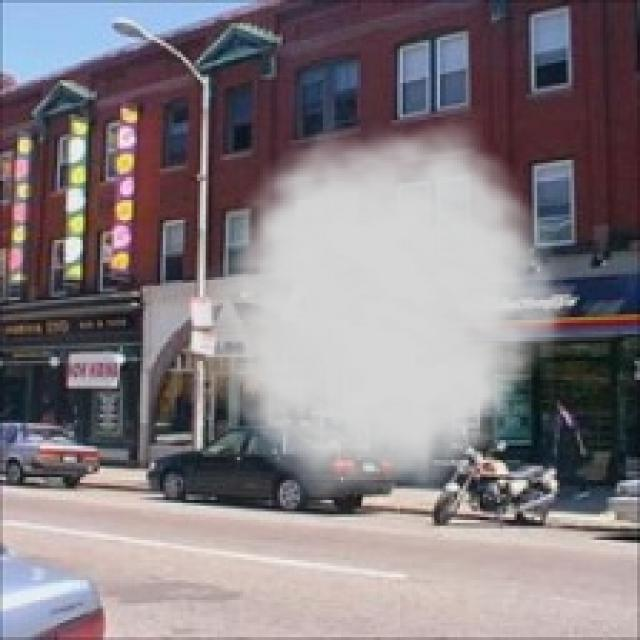smoke: (183, 106, 580, 503)
